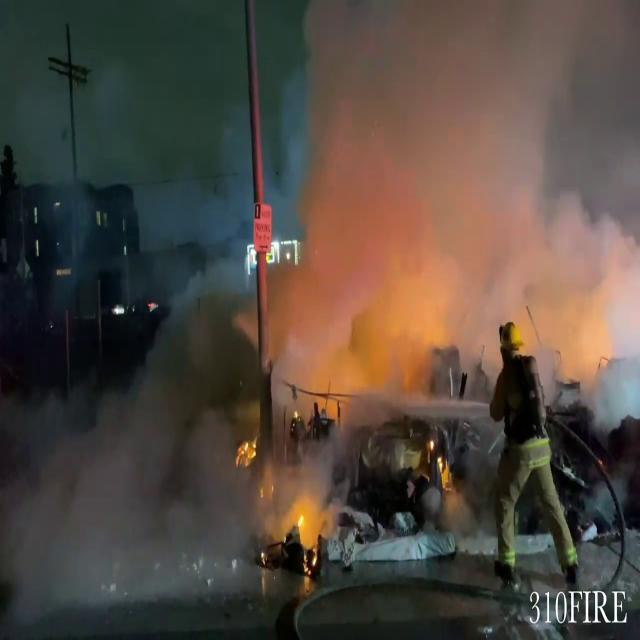Smoke: (272, 0, 640, 412)
